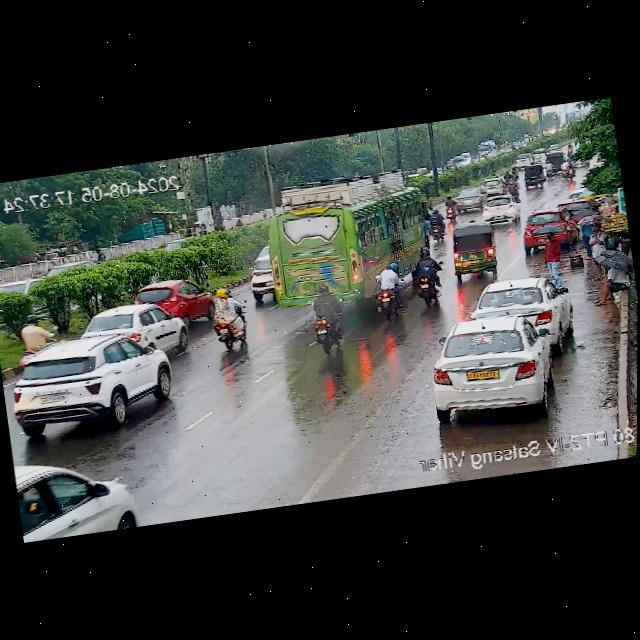bus: (260, 168, 449, 310), (477, 140, 497, 156)
car: (0, 323, 181, 432), (425, 310, 559, 418), (16, 443, 145, 542), (464, 271, 574, 345), (71, 298, 190, 366), (150, 272, 216, 325), (445, 220, 502, 280), (518, 208, 572, 250), (245, 248, 274, 304), (479, 194, 523, 228), (452, 190, 487, 212), (477, 176, 508, 196)
motorcycle: (299, 281, 354, 360), (205, 283, 252, 354), (405, 254, 447, 310), (367, 265, 409, 321), (520, 161, 547, 192), (428, 207, 448, 246), (551, 160, 577, 183), (439, 195, 461, 220)
person: (584, 255, 637, 307), (570, 204, 608, 264), (538, 226, 578, 278)
